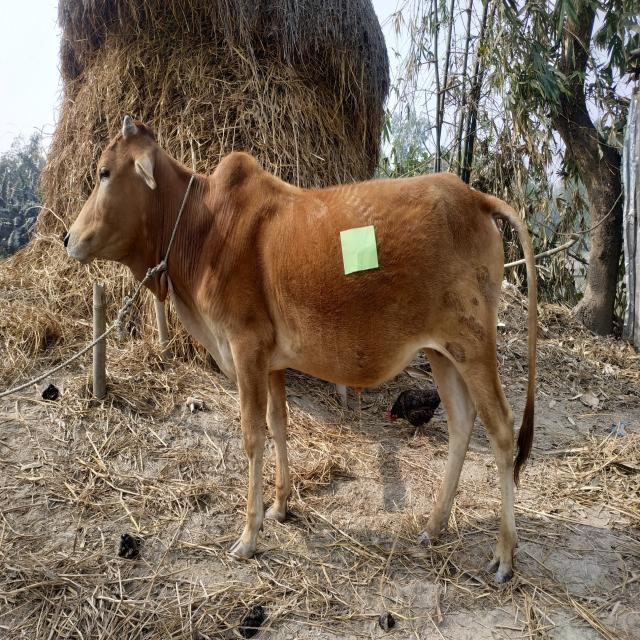badan_sapi: (211, 149, 486, 393)
sapi: (58, 108, 545, 590)
